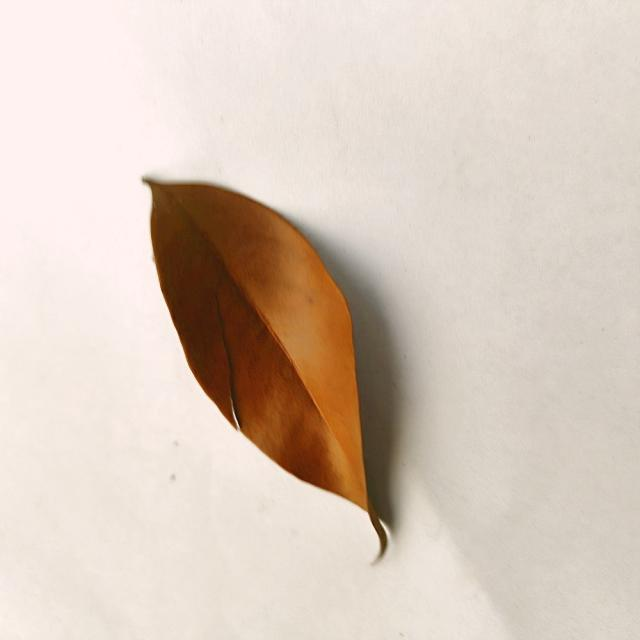Dry_Leaf-Lychee: (145, 178, 391, 549)
